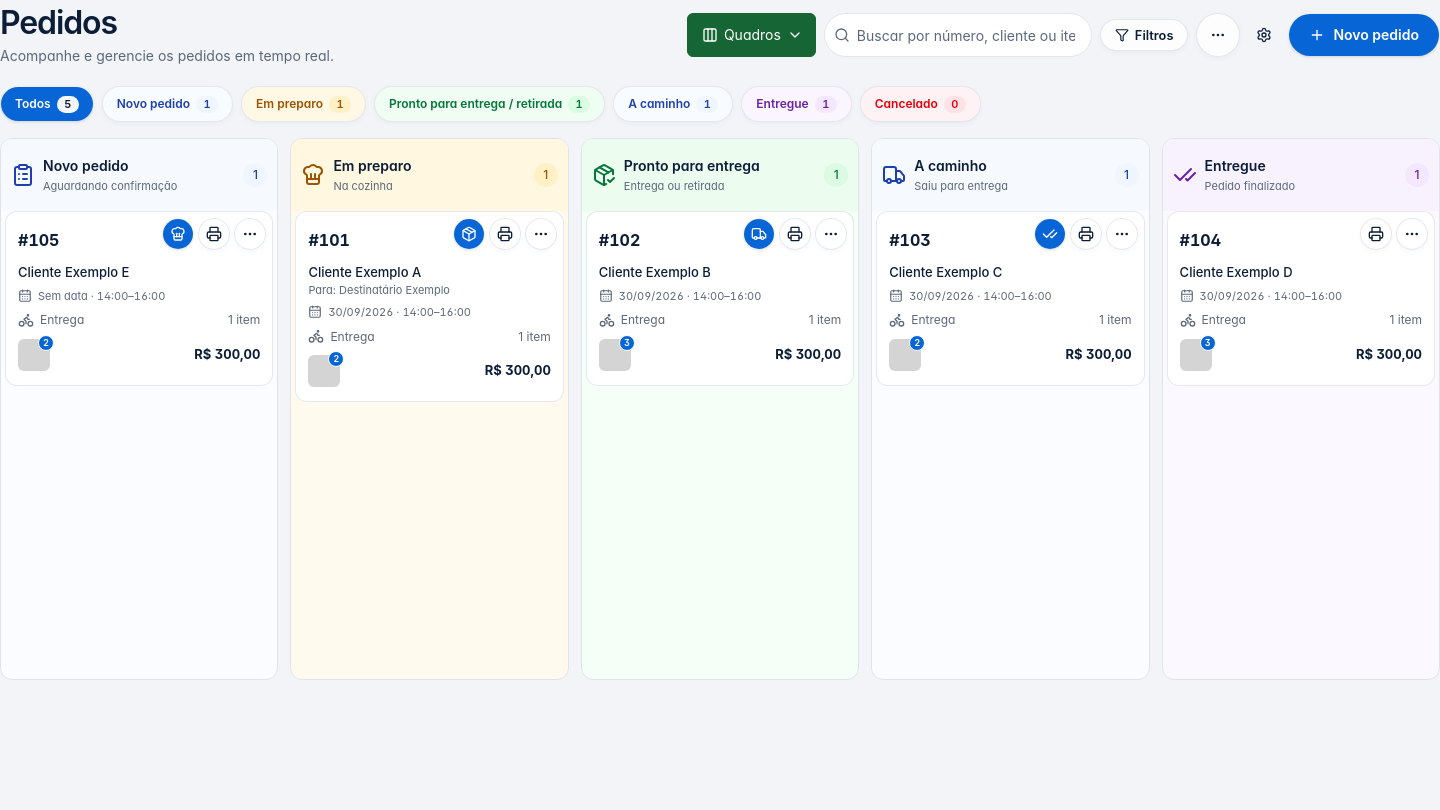
Test: Interface do gestor de pedidos › abre no Kanban com cinco etapas e conserva busca em todos os modos
Expected: the heading "Pedidos" is shown, [0, 3, 117, 42]
Expected: the element "Novo pedido" is shown, [0, 138, 278, 680]
Click the dropdown named "Modo de visualização". click: (751, 35)
box: [687, 13, 816, 57]
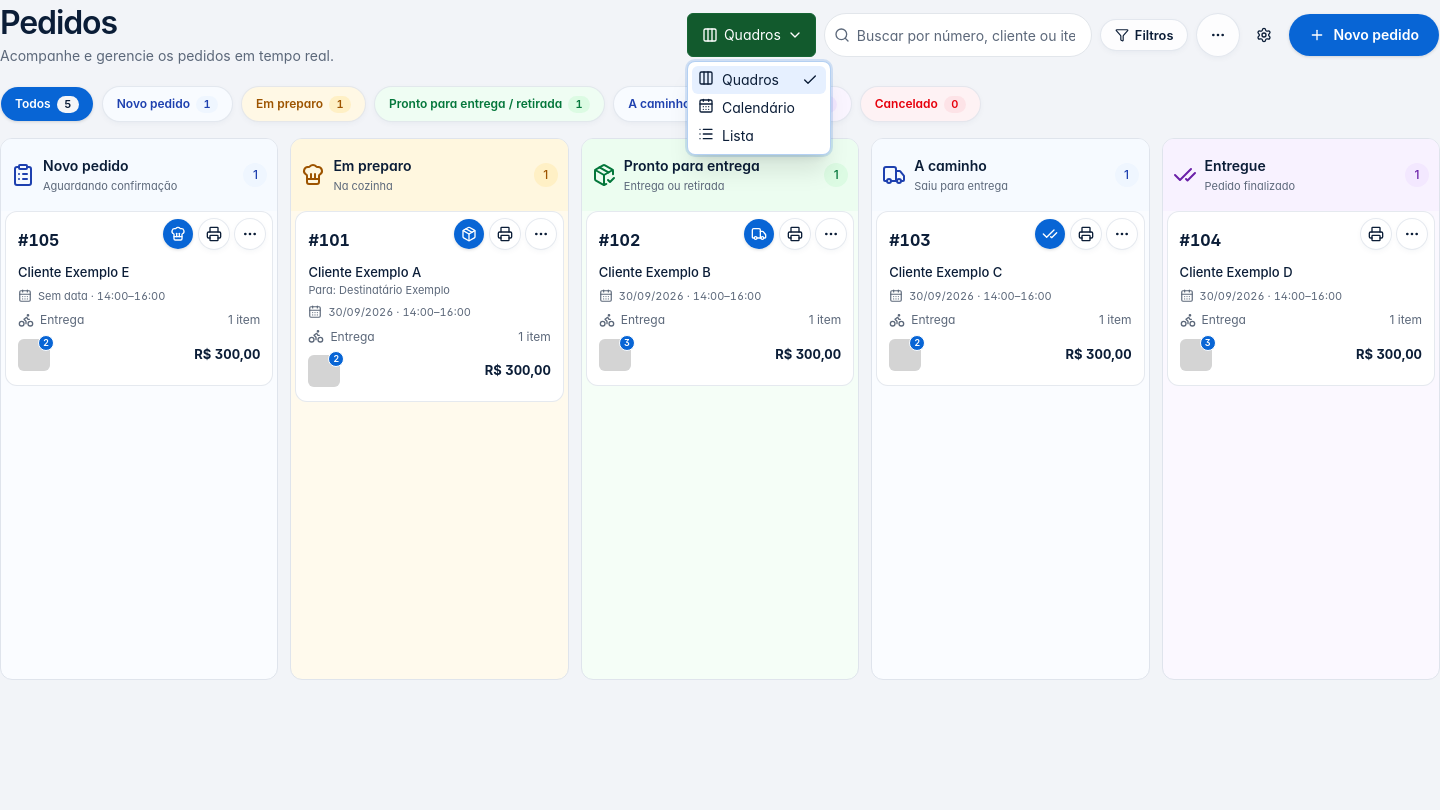
Click the option "Calendário". click: (746, 107)
box: [698, 98, 795, 116]
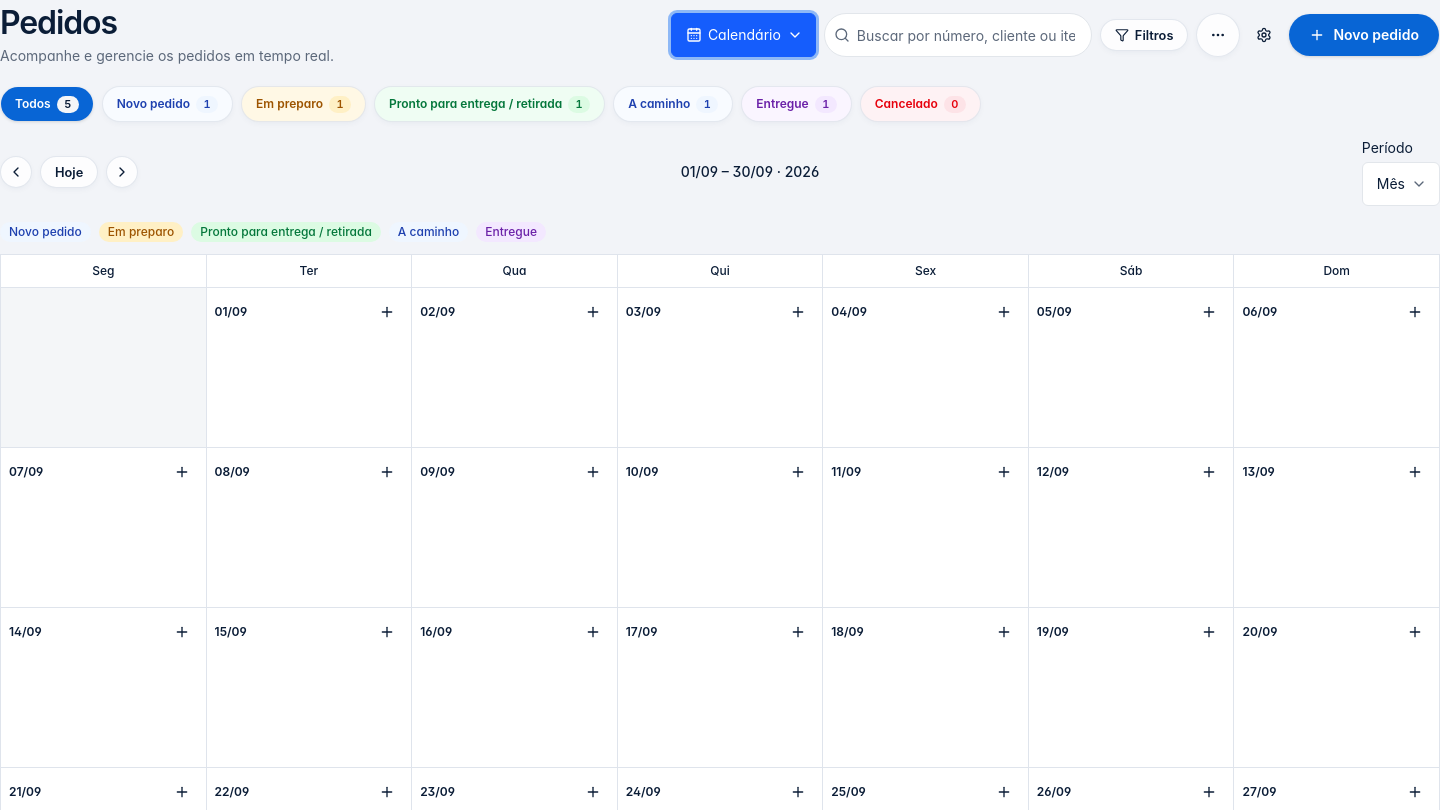
Expected: the field named "Buscar pedidos" is shown, [824, 13, 1092, 57]
Expected: the button "Filtros" is shown, [1100, 19, 1188, 51]
Click the dropdown named "Modo de visualização". click: (743, 35)
box: [671, 13, 816, 57]
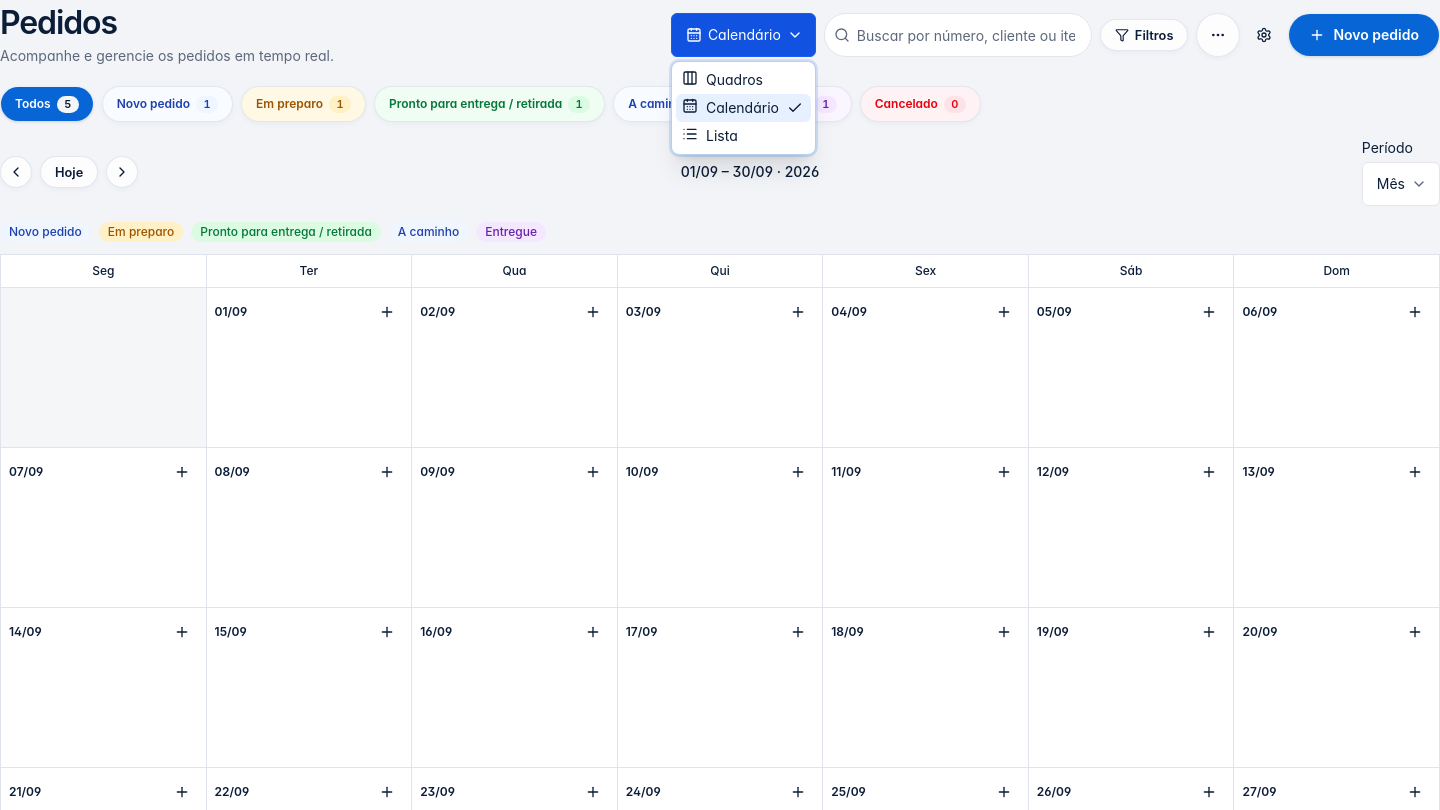
Click the option "Lista". click: (710, 135)
box: [682, 126, 738, 144]
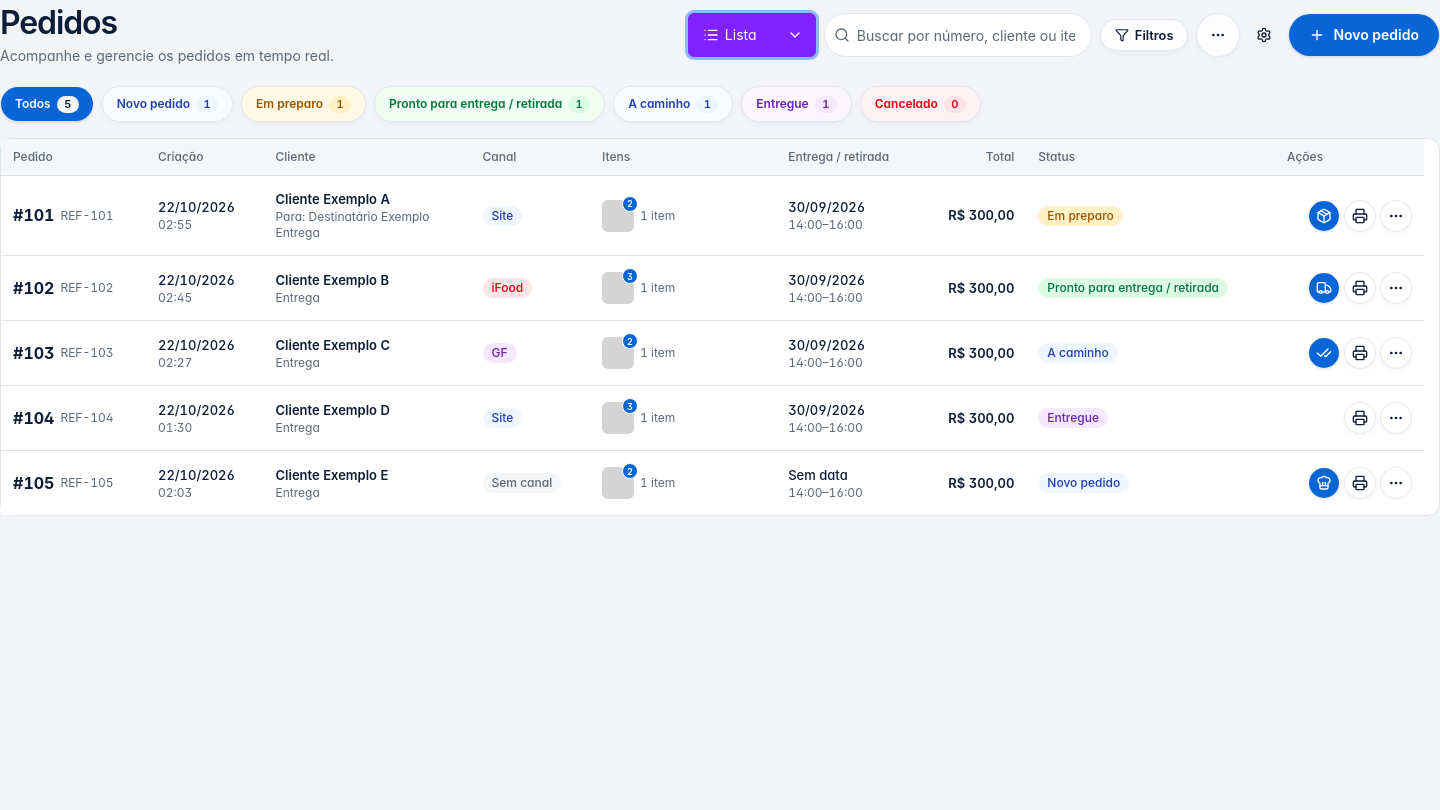
Expected: the field named "Buscar pedidos" is shown, [824, 13, 1092, 57]
Result: the dropdown named "Modo de visualização" shows "Lista"
Click the dropdown named "Modo de visualização". click: (752, 35)
box: [688, 13, 816, 57]
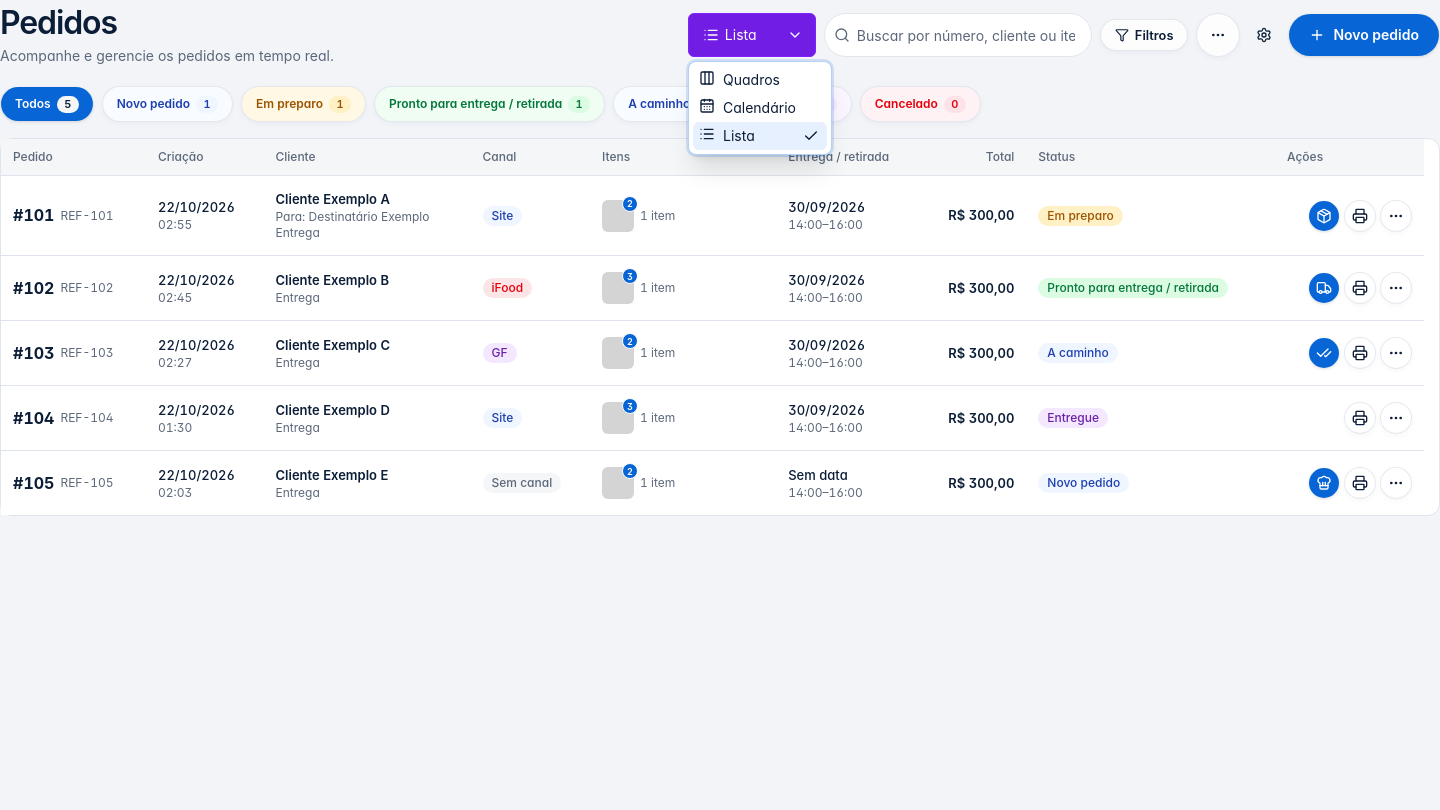
Click the option "Quadros". click: (740, 79)
box: [699, 70, 780, 88]
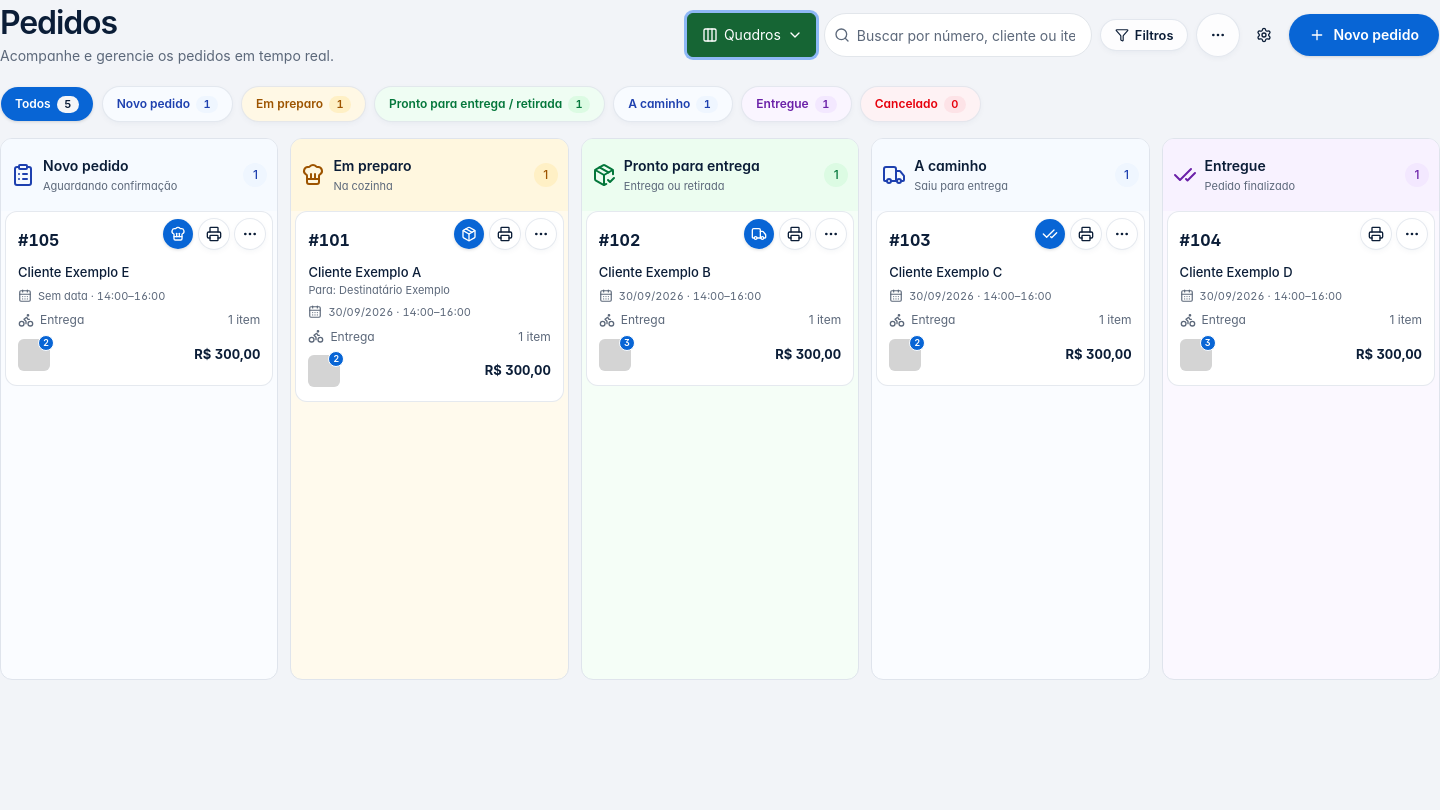
Expected: the field named "Buscar pedidos" is shown, [824, 13, 1092, 57]
Result: the dropdown named "Modo de visualização" shows "Quadros" at [687, 13, 816, 57]
